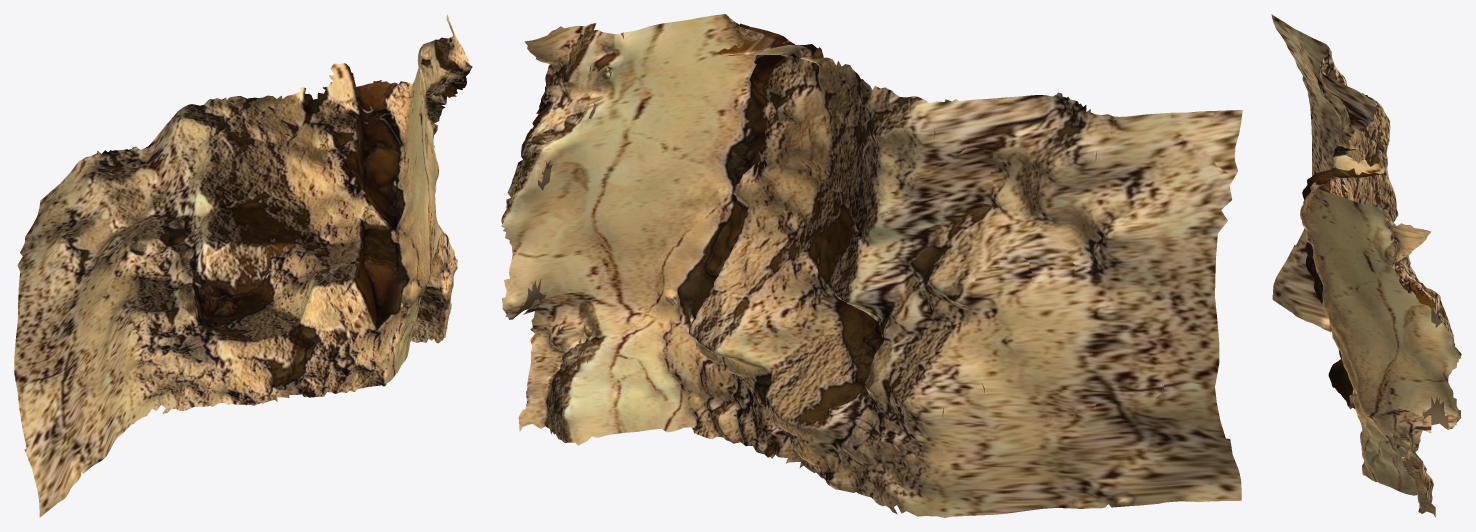
Rendered from land_4.obj.
3 renders of one model, left to right at view 1: azimuth 30°, elevation 25°; view 2: azimuth 150°, elevation 25°; view 3: azimuth 270°, elevation 25°, orthographic. The views are drawn at different scales.
Size of the model in its own units: 1.85 by 1.14 by 0.6716.
1 material, 1 textured.
